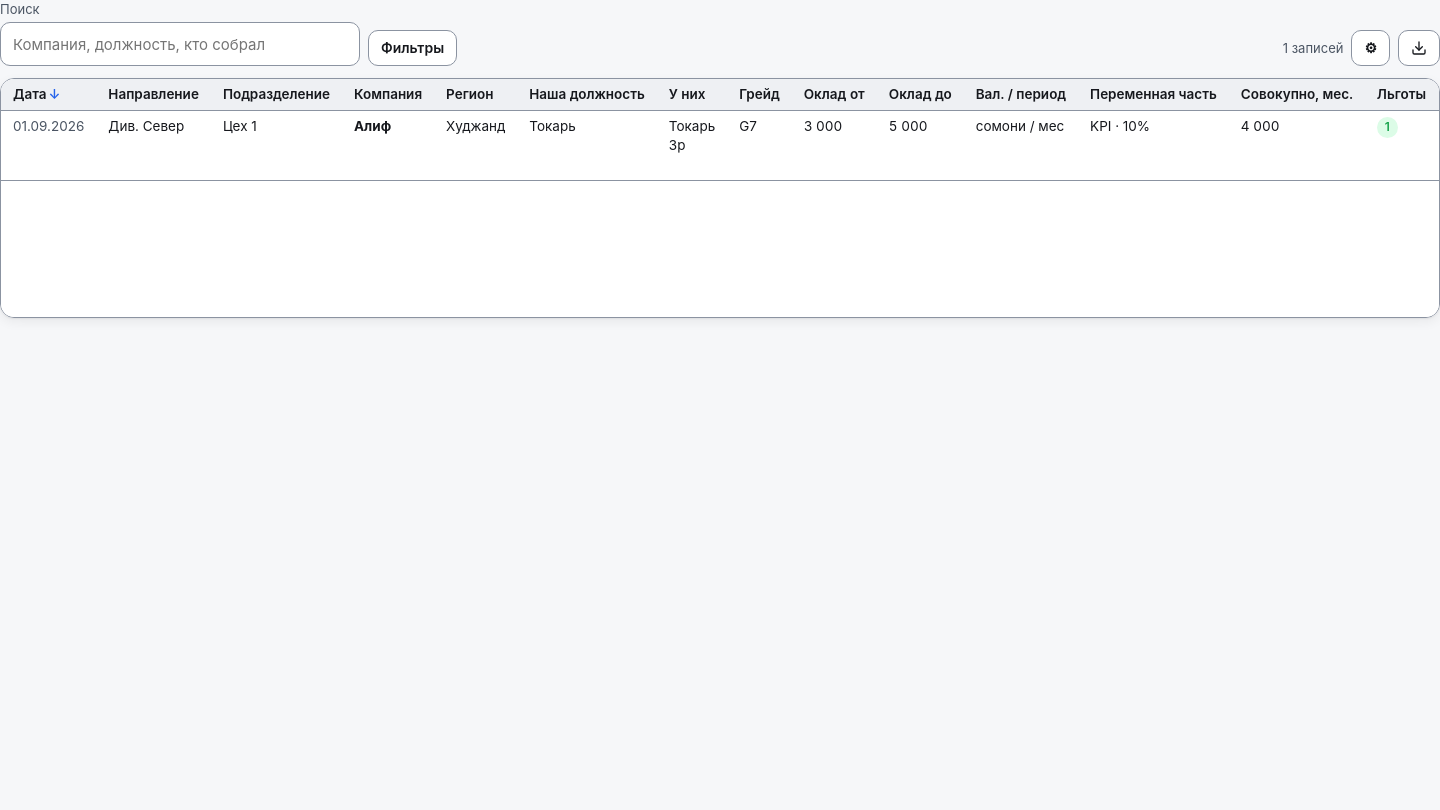
в карточке наблюдения видна и премия отдельно от оклада, когда её размер известен
Click the cell "Алиф" at (388, 145), box [342,111,434,180]
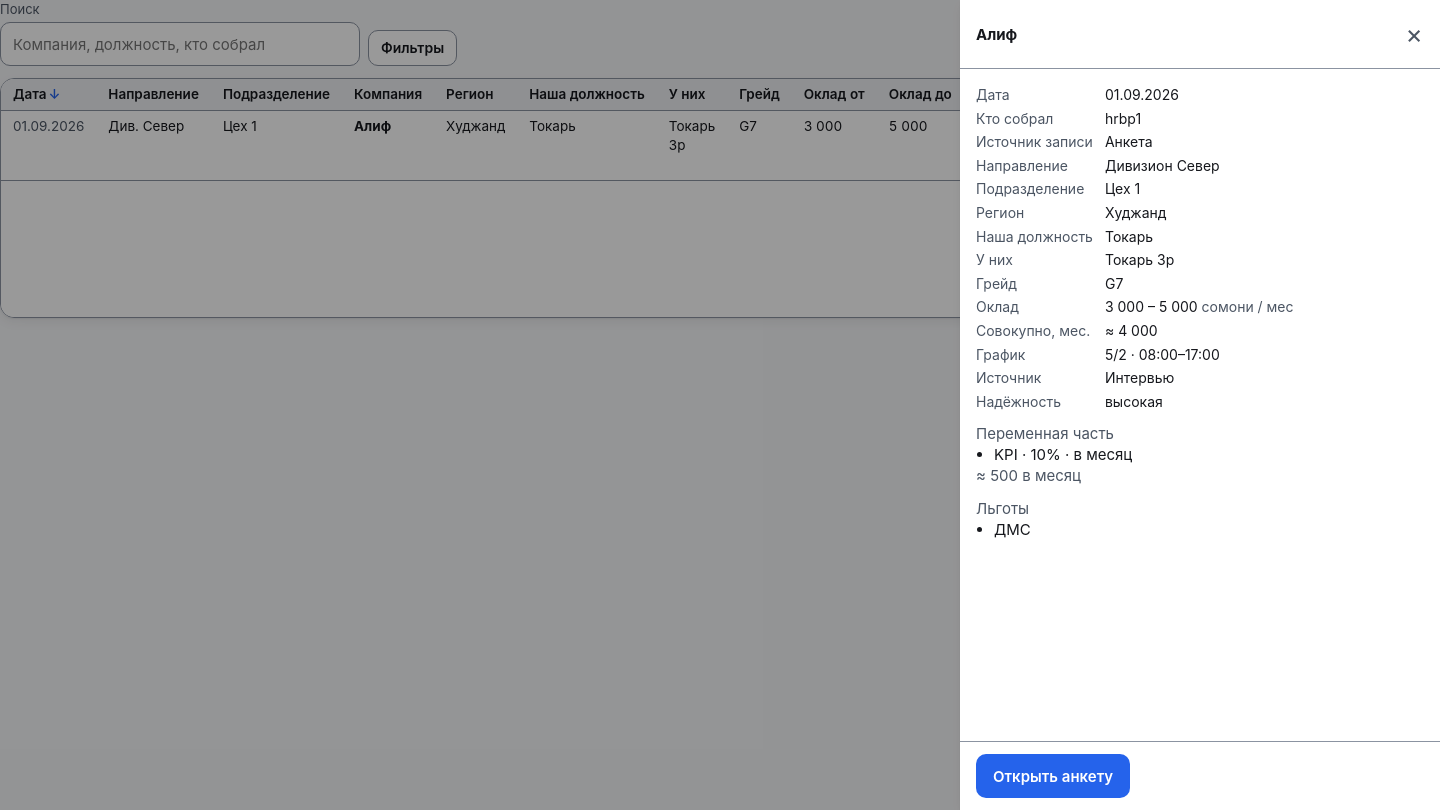
Expected: the text "≈ 500 в месяц" is shown, [976,466,1081,485]
